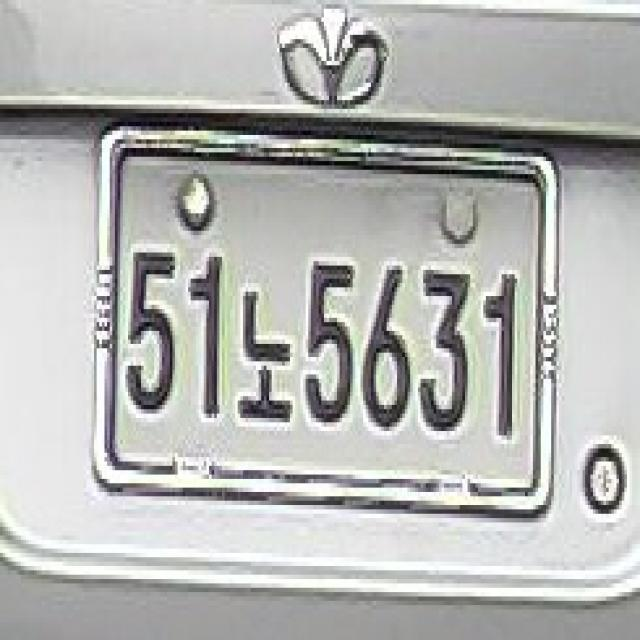1: (185, 242, 230, 436), (482, 262, 522, 452)
3: (420, 247, 472, 452)
5: (124, 230, 180, 428), (304, 252, 356, 440)
6: (361, 248, 416, 448)
license_plate: (110, 134, 564, 496)
no: (234, 271, 294, 441)
